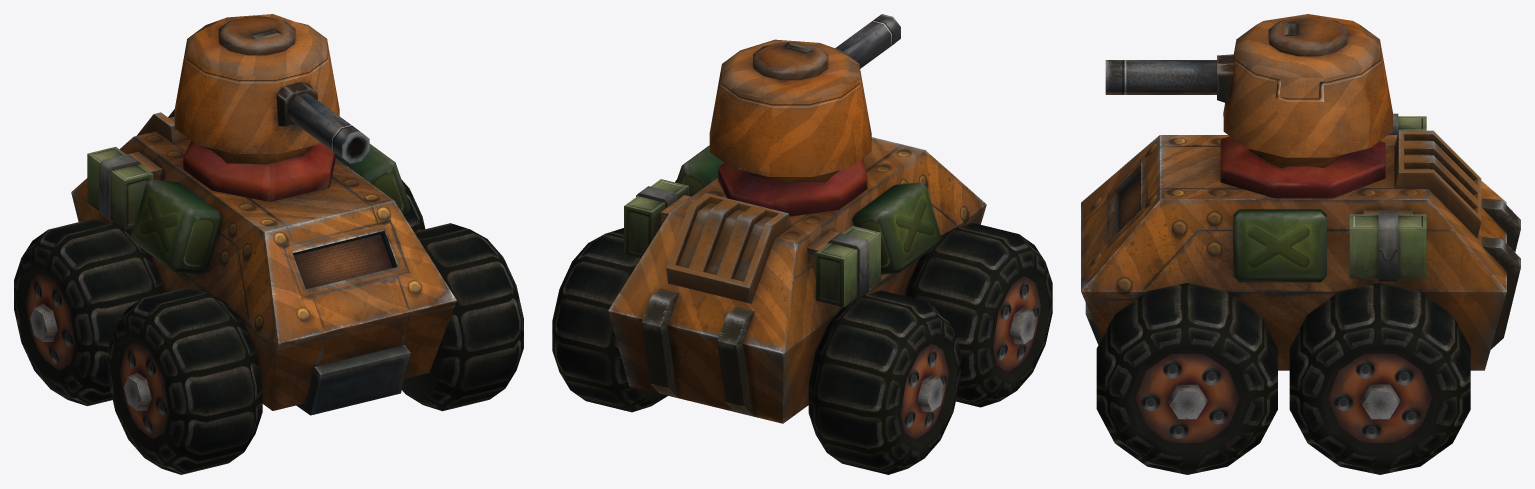
Rendered from Tank.obj.
3 renders of one model, left to right at view 1: azimuth 30°, elevation 25°; view 2: azimuth 150°, elevation 25°; view 3: azimuth 270°, elevation 25°, orthographic. The views are drawn at different scales.
Visible parts, largest first — view 1: Object031; view 2: Object031; view 3: Object031.
Boxes of the visible parts, x1=… form: Object031: x1=14, y1=14, x2=523, y2=474; Object031: x1=552, y1=14, x2=1052, y2=474; Object031: x1=1081, y1=14, x2=1520, y2=474.
Bounding box in the file's own units: 73.64 × 68.92 × 74.49.
1 material, 1 textured.
